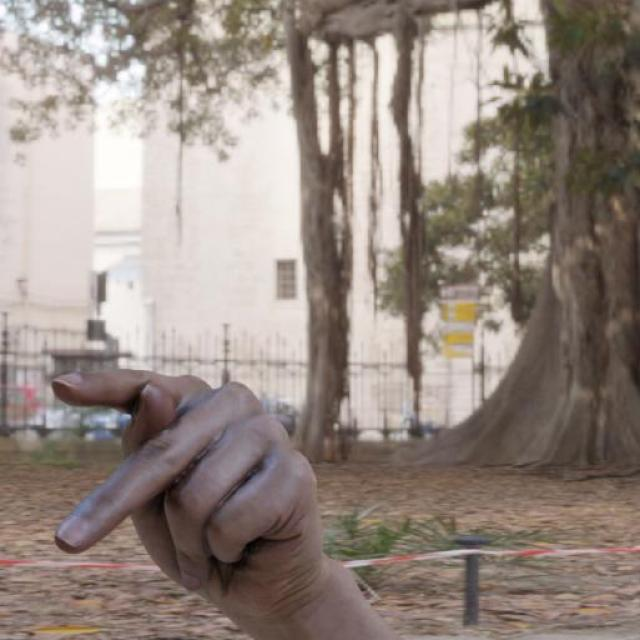P: (22, 346, 324, 612)
